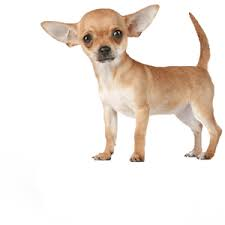chihuahua: (41, 3, 222, 162)
